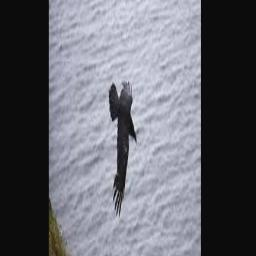Crow: (109, 77, 137, 218)
